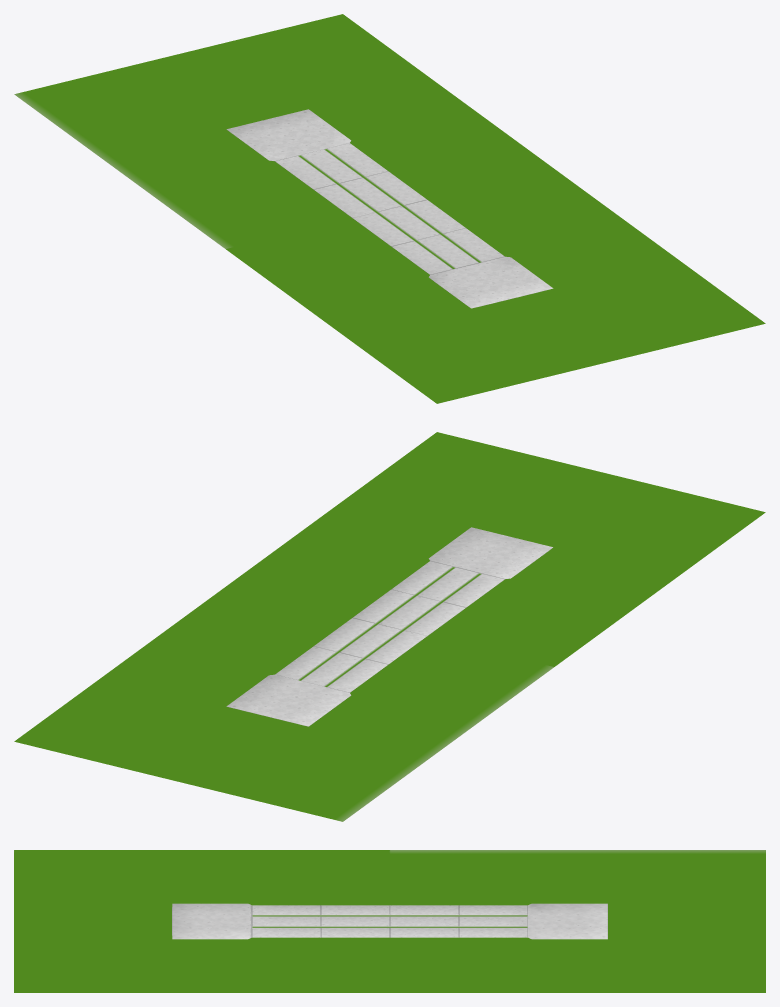
3 renders of one model, top to bottom at view 1: azimuth 30°, elevation 25°; view 2: azimuth 150°, elevation 25°; view 3: azimuth 270°, elevation 25°, orthographic. The views are drawn at different scales.
Visible parts, largest first — view 1: Plane_Test_2, Roads; view 2: Plane_Test_2, Roads; view 3: Plane_Test_2, Roads.
Boxes of the visible parts, x1,y1,x2,y2 form: Plane_Test_2: (14, 14, 765, 403); Roads: (226, 109, 553, 308); Plane_Test_2: (14, 432, 765, 821); Roads: (226, 527, 552, 726); Plane_Test_2: (14, 850, 765, 992); Roads: (172, 903, 607, 939).
Bounding box in the file's own units: 400 × 891 × 2.65.
